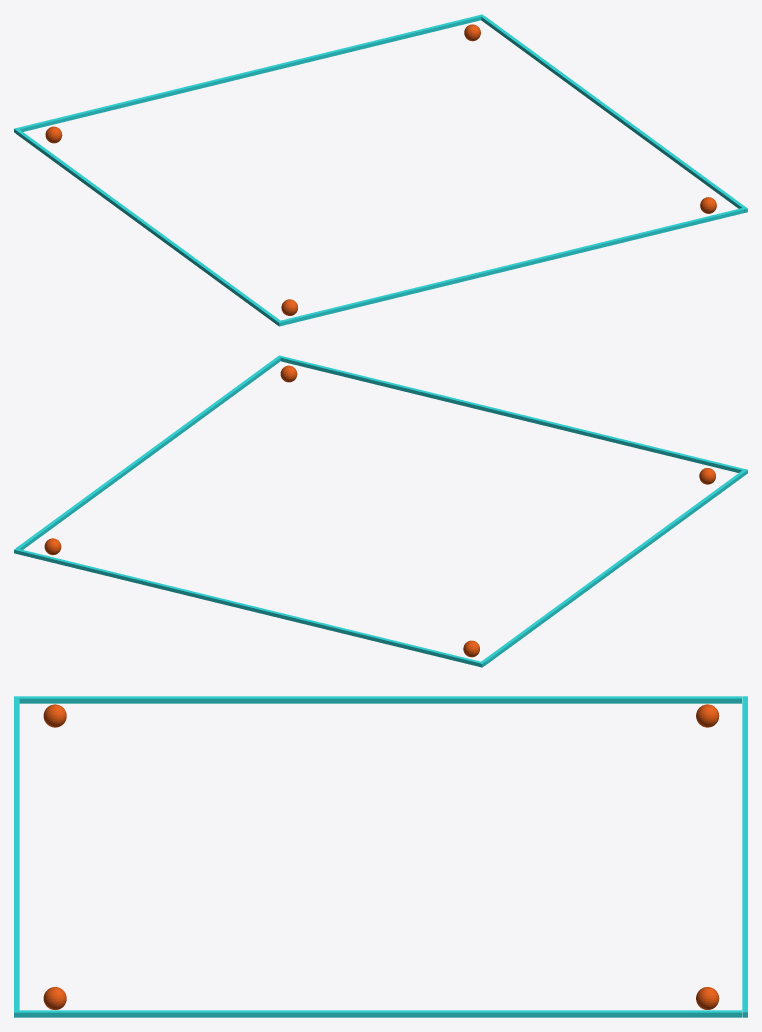
Rendered from cubering1.gltf.
3 renders of one model, top to bottom at view 1: azimuth 30°, elevation 25°; view 2: azimuth 150°, elevation 25°; view 3: azimuth 270°, elevation 25°, orthographic. The views are drawn at different scales.
Parts seen in each view (by area): view 1: Cube.001, Cube, Cube.003, Cube.002; view 2: Cube.001, Cube, Cube.003, Cube.002; view 3: Cube.002, Cube.003, Cube.001, Cube.
Boxes of the visible parts, x1=… form: Cube.001: x1=14, y1=14, x2=483, y2=133; Cube: x1=278, y1=207, x2=747, y2=325; Cube.003: x1=16, y1=129, x2=282, y2=326; Cube.002: x1=481, y1=16, x2=747, y2=212; Cube.001: x1=14, y1=548, x2=484, y2=667; Cube: x1=277, y1=355, x2=747, y2=472; Cube.003: x1=481, y1=470, x2=747, y2=665; Cube.002: x1=16, y1=356, x2=281, y2=549; Cube.002: x1=14, y1=1010, x2=741, y2=1017; Cube.003: x1=14, y1=696, x2=741, y2=703; Cube.001: x1=742, y1=696, x2=747, y2=1017; Cube: x1=14, y1=696, x2=19, y2=1011.
Bounding box in the file's own units: 22.7 × 0.7047 × 22.26.
